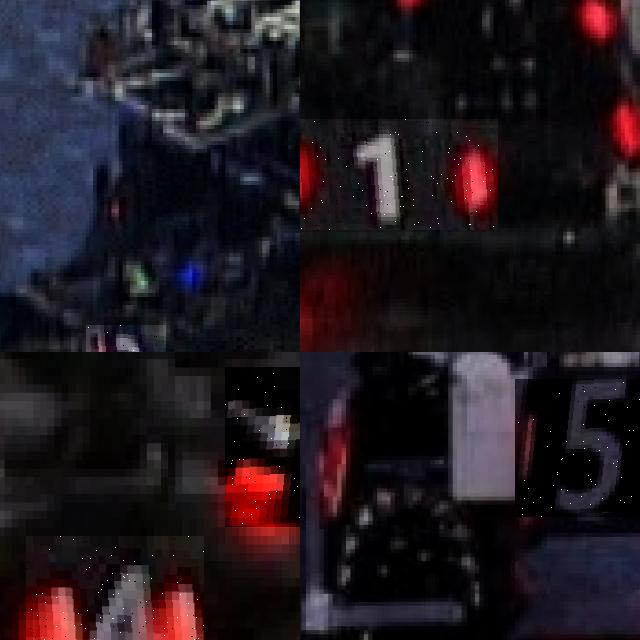R1: (300, 119, 497, 229)
R2: (85, 325, 166, 352)
R4: (26, 536, 204, 640), (224, 367, 300, 527)
R5: (514, 379, 640, 516)
